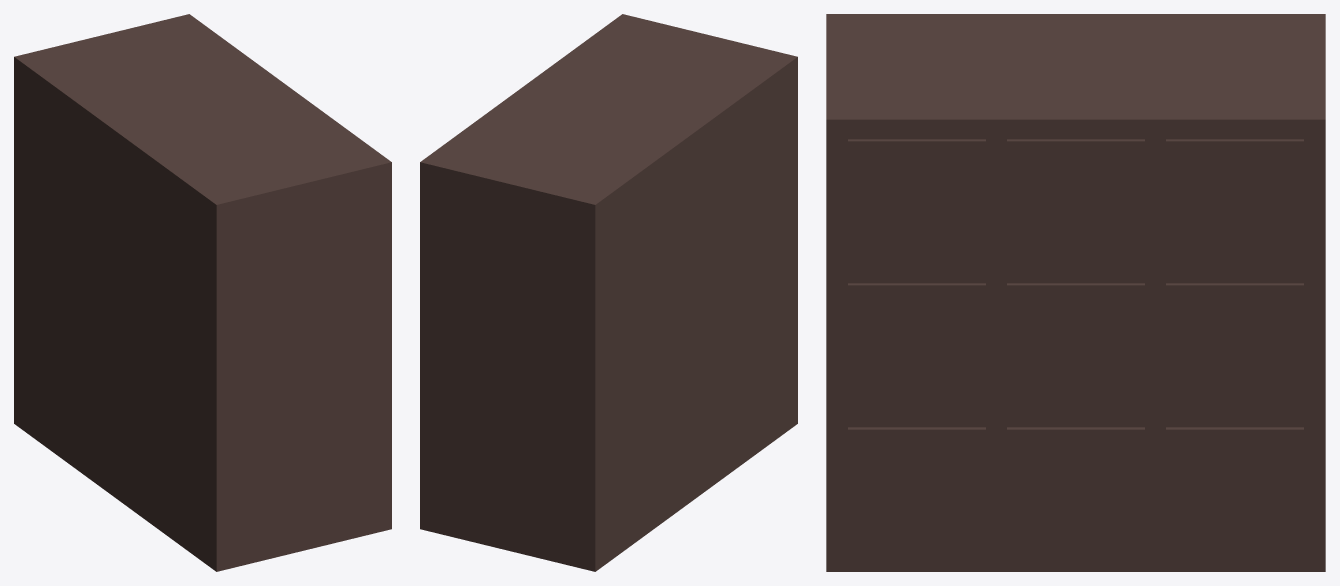
File: Cubby V1 EXPORT.fbx
The picture shows the model from 3 angles, left to right: view 1: azimuth 30°, elevation 25°; view 2: azimuth 150°, elevation 25°; view 3: azimuth 270°, elevation 25°; orthographic projection. The views are drawn at different scales.
Visible parts, largest first — view 1: Cube; view 2: Cube; view 3: Cube, Cube.004, Cube.001, Cube.002, Cube.003.
Boxes of the visible parts, bbox=[...] form: Cube: bbox=[14, 14, 391, 571]; Cube: bbox=[420, 14, 797, 571]; Cube: bbox=[826, 14, 1325, 571]; Cube.004: bbox=[848, 139, 1303, 554]; Cube.001: bbox=[848, 283, 1303, 410]; Cube.002: bbox=[1007, 139, 1144, 554]; Cube.003: bbox=[1007, 283, 1144, 410].
Bounding box in the file's own units: 240 × 471 × 471.
